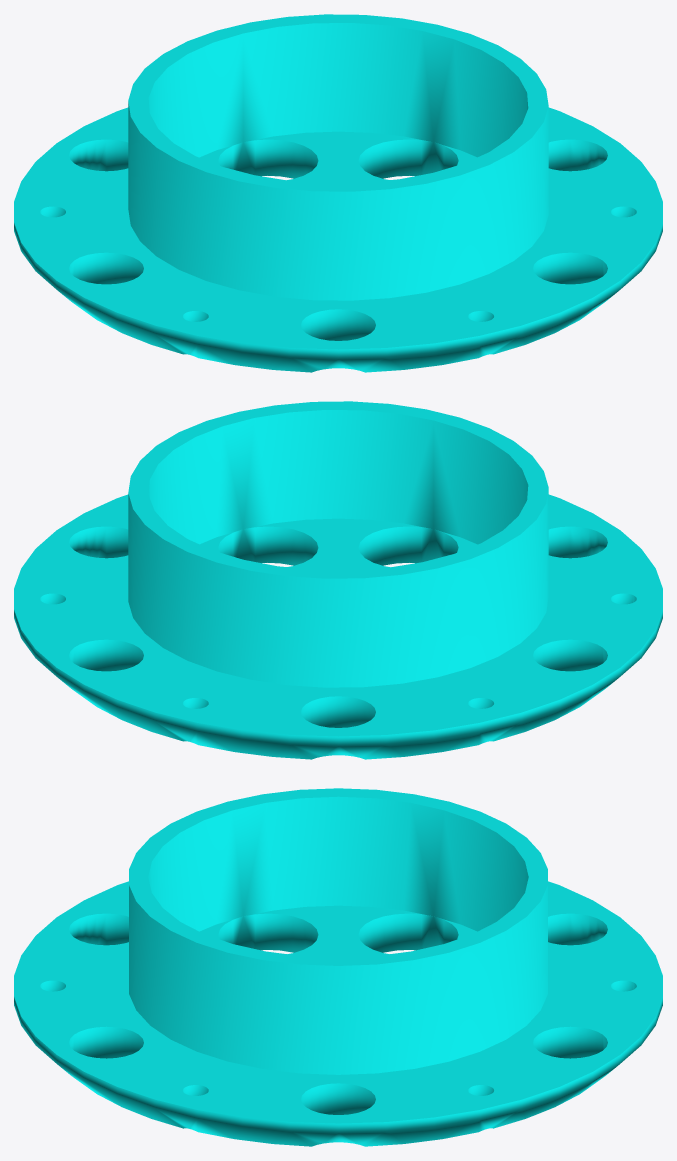
File: reaction_wheel.dae
The picture shows the model from 3 angles, top to bottom: view 1: azimuth 30°, elevation 25°; view 2: azimuth 150°, elevation 25°; view 3: azimuth 270°, elevation 25°; orthographic projection.
Parts seen in each view (by area): view 1: reactionwheel v2; view 2: reactionwheel v2; view 3: reactionwheel v2.
Part boxes in pixels (box(x1,y1,x2,y2)): reactionwheel v2: box(14, 14, 662, 372); reactionwheel v2: box(14, 401, 662, 759); reactionwheel v2: box(14, 788, 662, 1146).
Bounding box in the file's own units: 0.065 × 0.0648 × 0.022.
